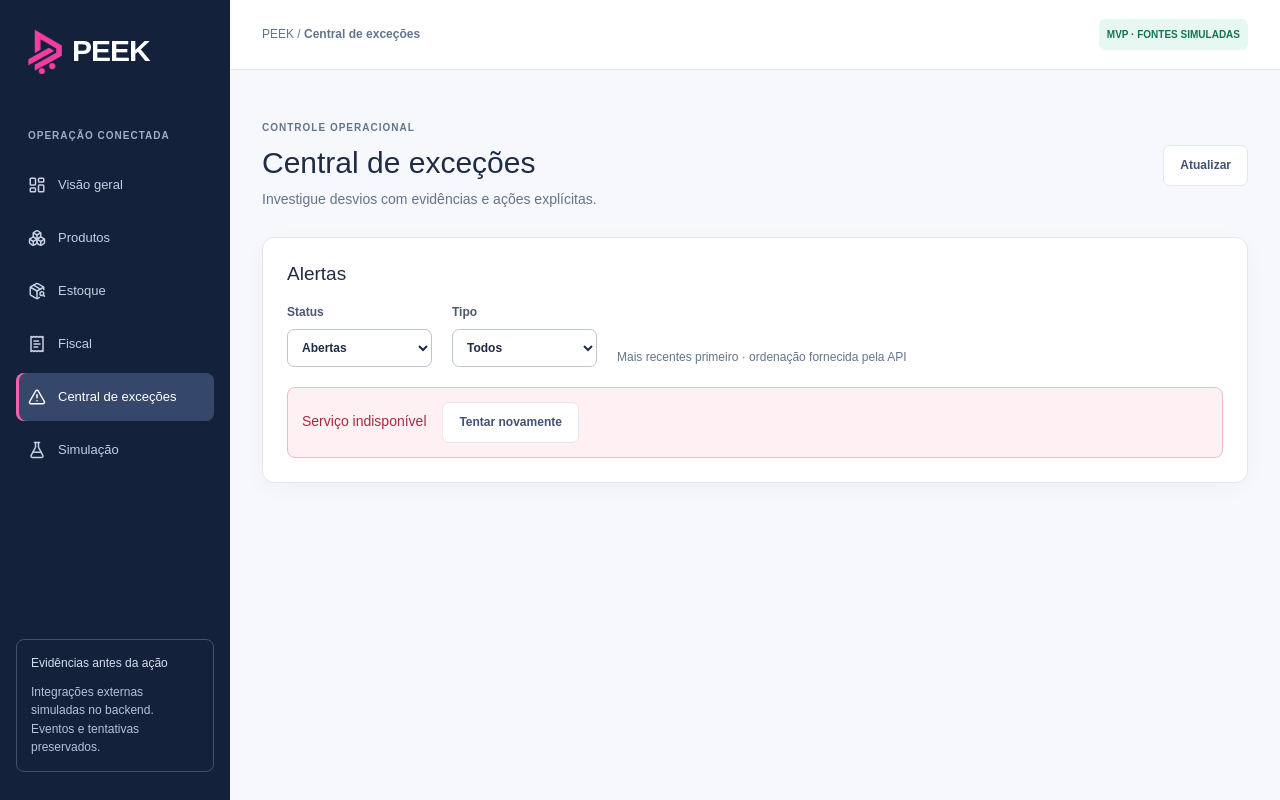
API-backed investigation › shows empty and API failure with retry without manufacturing alerts
Expected: the message shows "Serviço indisponível", [302,413,426,429]
Click the button "Tentar novamente" at {"x": 511, "y": 422}, box [442,402,579,443]
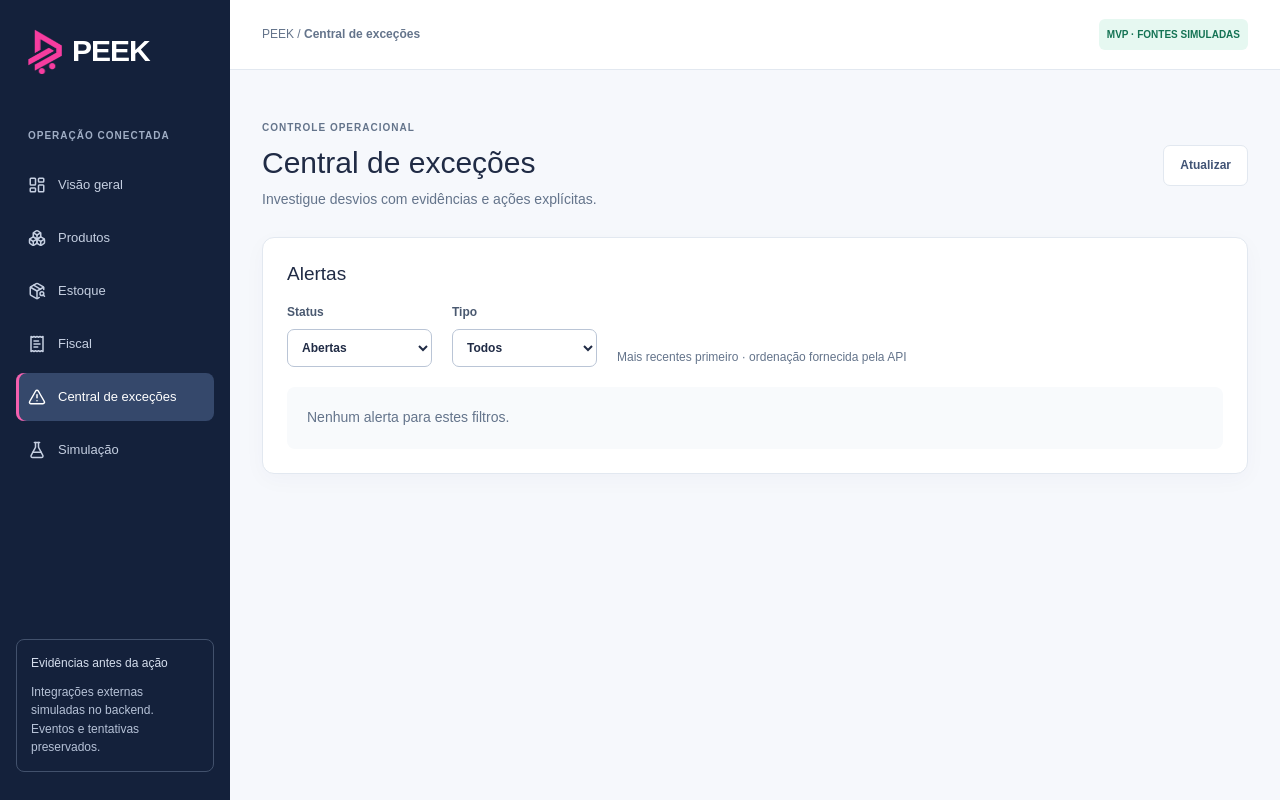
Result: the text "Nenhum alerta para estes filtros." is shown at [287,387,1223,449]
